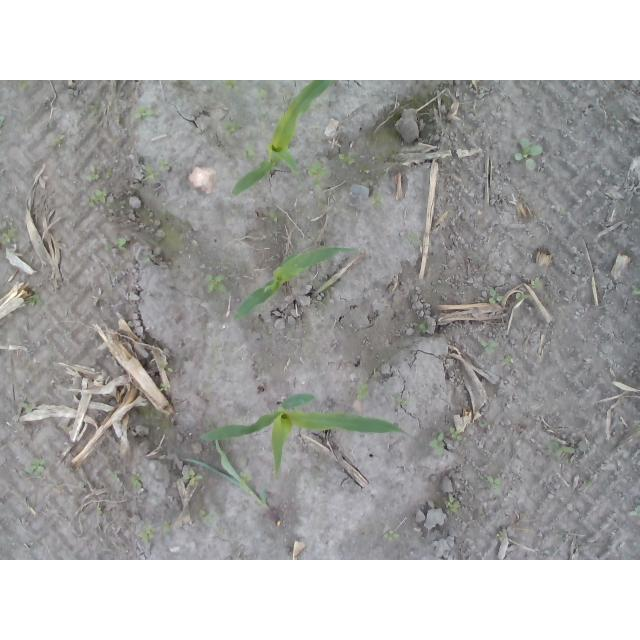Maize: (200, 391, 403, 481), (231, 80, 334, 196), (236, 246, 353, 323), (183, 440, 274, 512)
Weeds: (513, 137, 544, 171), (304, 159, 331, 190), (0, 215, 20, 247), (143, 160, 170, 183), (548, 440, 574, 461), (480, 473, 504, 495), (136, 521, 160, 543), (23, 457, 50, 476), (255, 80, 273, 104), (608, 112, 628, 133), (223, 80, 247, 96), (206, 275, 226, 294), (86, 189, 107, 207), (431, 432, 446, 457), (591, 128, 610, 145), (221, 118, 241, 134), (488, 287, 505, 305), (477, 336, 495, 353), (131, 106, 154, 119), (338, 151, 354, 169), (243, 143, 258, 162), (184, 468, 204, 482), (197, 510, 216, 524), (447, 496, 462, 513), (129, 471, 143, 489), (370, 192, 384, 209), (384, 529, 401, 543), (355, 384, 369, 401), (47, 132, 65, 145), (449, 425, 463, 441), (88, 96, 101, 112), (416, 320, 429, 336), (530, 275, 543, 290), (238, 470, 254, 482), (16, 80, 32, 92), (480, 419, 497, 430), (18, 400, 33, 412), (113, 238, 127, 250), (627, 506, 640, 518), (85, 171, 99, 182), (30, 294, 42, 306), (500, 355, 514, 365), (515, 292, 529, 301), (358, 164, 370, 174), (270, 209, 278, 223), (496, 531, 506, 542), (163, 520, 171, 533), (631, 286, 640, 297), (112, 471, 120, 482), (0, 114, 6, 128), (400, 399, 408, 409), (143, 256, 151, 264)
